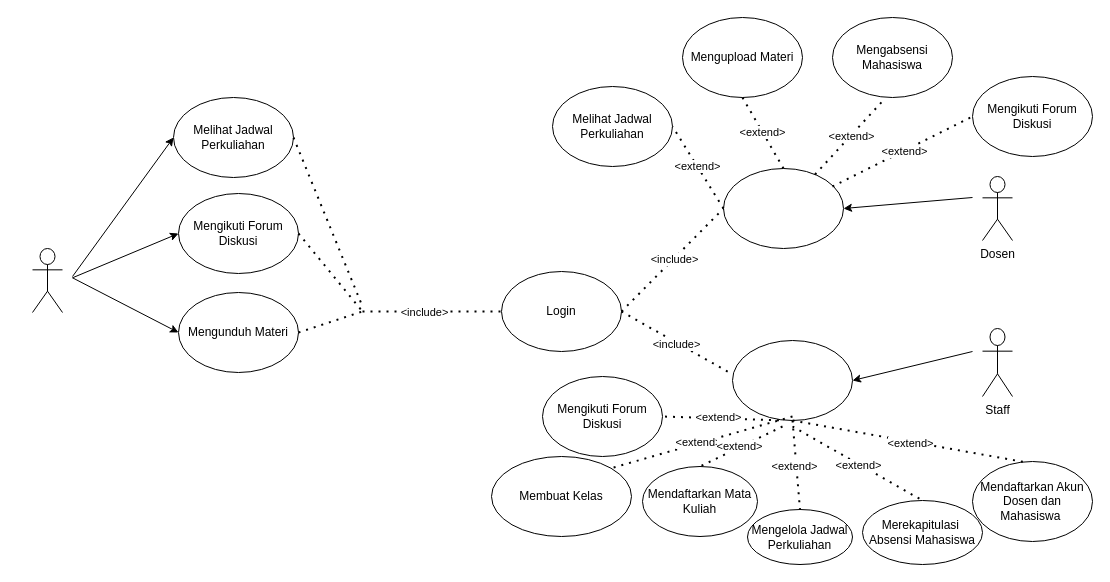
This 1110x582 diagram has some shape labels left out. Each missing label, with the centre of its shape:
Mahasiswa: (x=47, y=280)
Manajemen Pembelajaran: (x=783, y=208)
Manajemen Sistem: (x=792, y=380)
